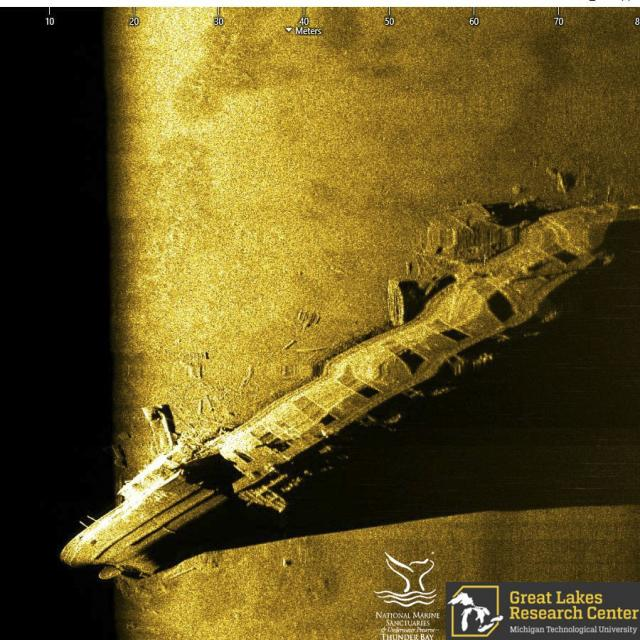ship: (58, 193, 623, 583)
